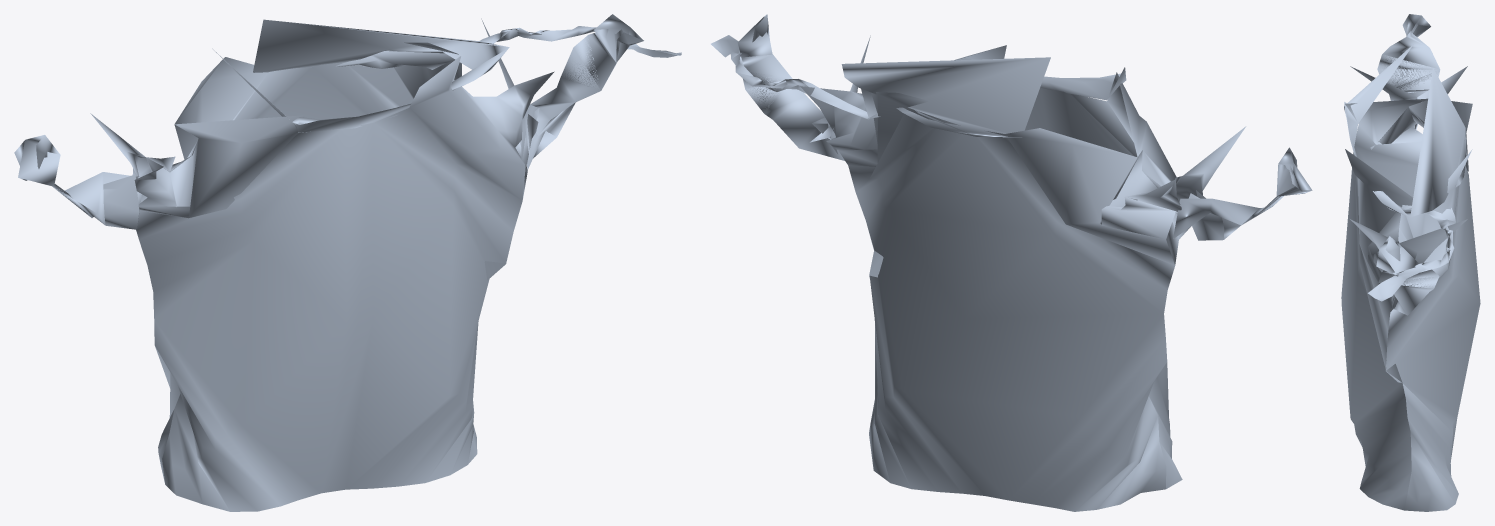
File: frame_008.glb
3 views of the same model, side by side, from view 1: azimuth 30°, elevation 25°; view 2: azimuth 150°, elevation 25°; view 3: azimuth 270°, elevation 25° (orthographic). The views are drawn at different scales.
Visible parts, largest first — view 1: panel.front, panel.back, panel.neck_band, panel.sleeve.right, panel.sleeve.left; view 2: panel.back, panel.neck_band, panel.front, panel.sleeve.right, panel.sleeve.left; view 3: panel.front, panel.back, panel.neck_band, panel.sleeve.left, panel.sleeve.right.
Boxes of the visible parts, x1,y1,x2,y2 form: panel.front: [134, 56, 554, 511]; panel.back: [90, 18, 527, 482]; panel.neck_band: [212, 19, 681, 132]; panel.sleeve.right: [520, 14, 643, 169]; panel.sleeve.left: [14, 135, 141, 229]; panel.back: [800, 86, 1182, 511]; panel.neck_band: [711, 35, 1126, 137]; panel.front: [850, 35, 1246, 488]; panel.sleeve.right: [737, 14, 844, 160]; panel.sleeve.left: [1173, 147, 1312, 240]; panel.front: [1341, 66, 1427, 510]; panel.back: [1385, 66, 1480, 511]; panel.neck_band: [1344, 44, 1466, 301]; panel.sleeve.left: [1377, 14, 1440, 131]; panel.sleeve.right: [1376, 236, 1439, 315].
Size of the model in its own units: 1.16 by 0.8047 by 0.269.
